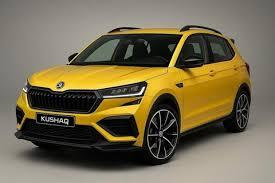skoda: (52, 78, 67, 91)
